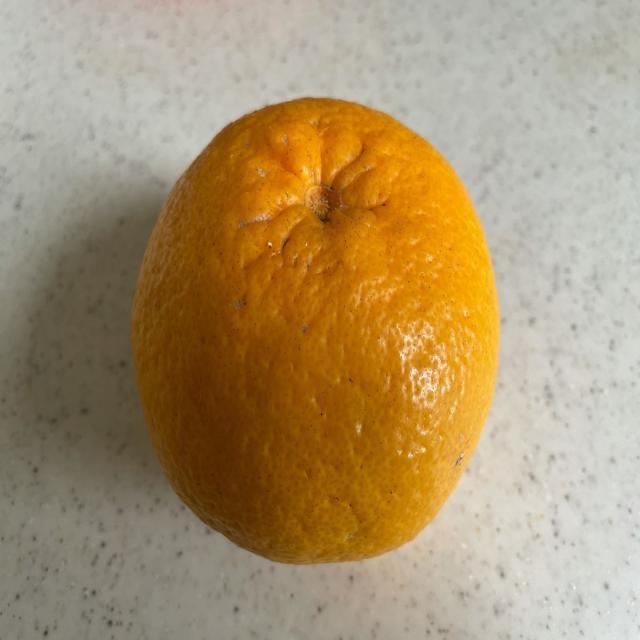Orange: (135, 97, 501, 570)
